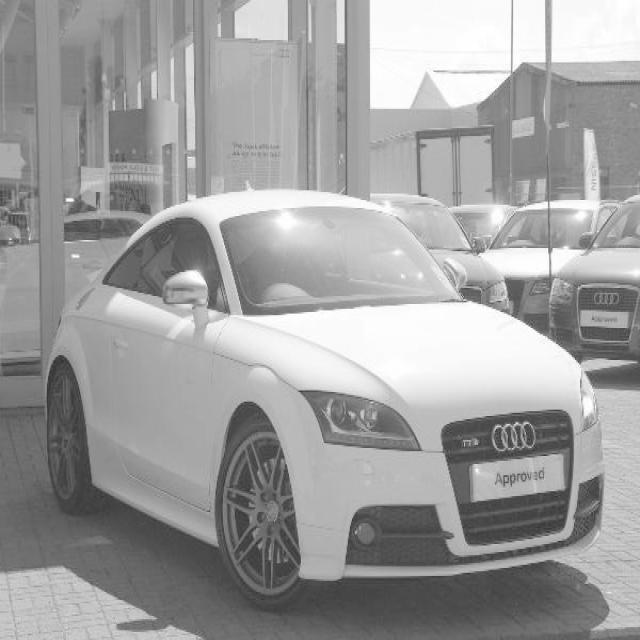car: (42, 186, 604, 608)
